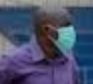with_facemask: (57, 26, 78, 53)
